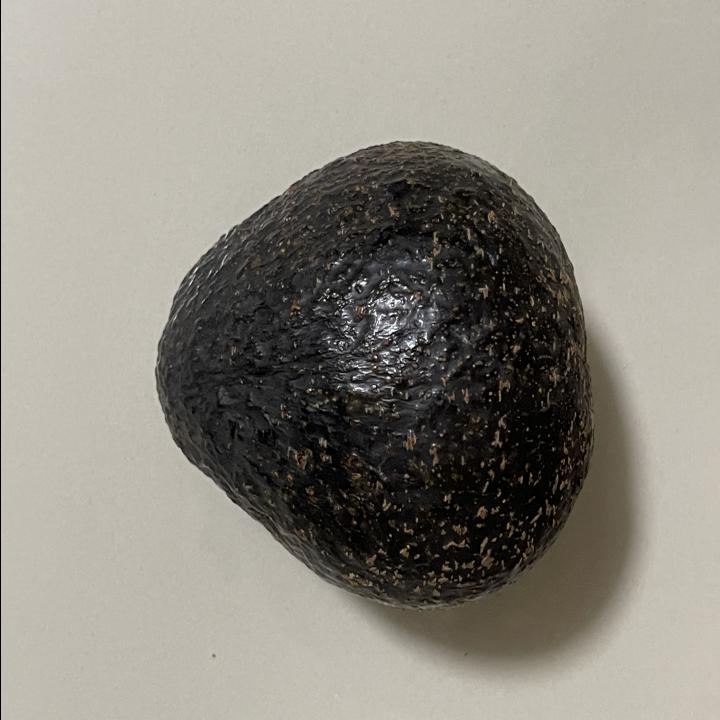Level2: (147, 134, 600, 618)
